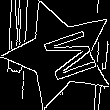M_W: (27, 24, 93, 85)
